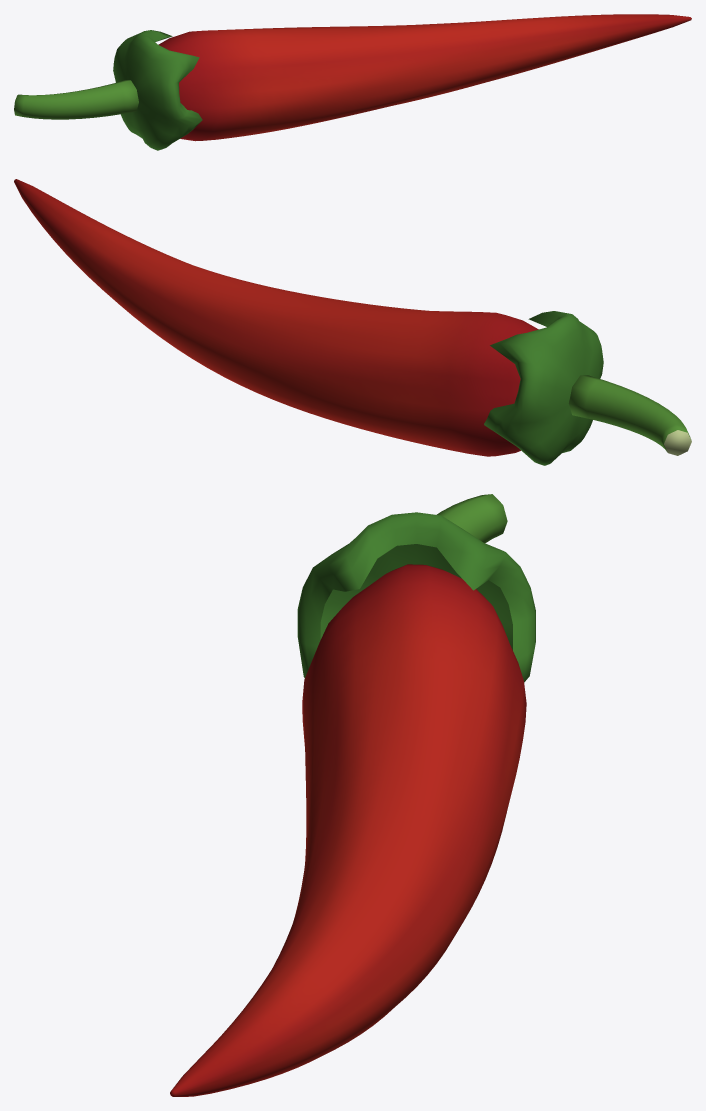
The model's file is chili.glb.
3 views of the same model, one above another, from view 1: azimuth 30°, elevation 25°; view 2: azimuth 150°, elevation 25°; view 3: azimuth 270°, elevation 25° (orthographic). The views are drawn at different scales.
Parts seen in each view (by area): view 1: Chili_Body, Chili_Cap, Chili_Stalk; view 2: Chili_Body, Chili_Cap, Chili_Stalk; view 3: Chili_Body, Chili_Cap, Chili_Stalk.
Boxes of the visible parts, x1,y1,x2,y2 form: Chili_Body: [158, 14, 691, 141]; Chili_Cap: [113, 30, 202, 150]; Chili_Stalk: [14, 80, 138, 119]; Chili_Body: [14, 179, 538, 456]; Chili_Cap: [484, 311, 603, 465]; Chili_Stalk: [568, 375, 691, 455]; Chili_Body: [170, 564, 526, 1096]; Chili_Cap: [297, 512, 535, 682]; Chili_Stalk: [436, 494, 507, 543].
Bounding box in the file's own units: 0.1693 × 0.0317 × 0.0446.
